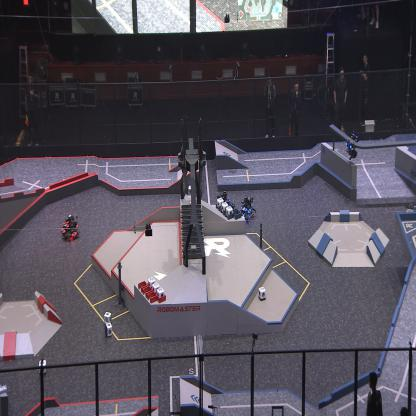car: (60, 214, 79, 242), (215, 190, 235, 216), (238, 195, 256, 223)
